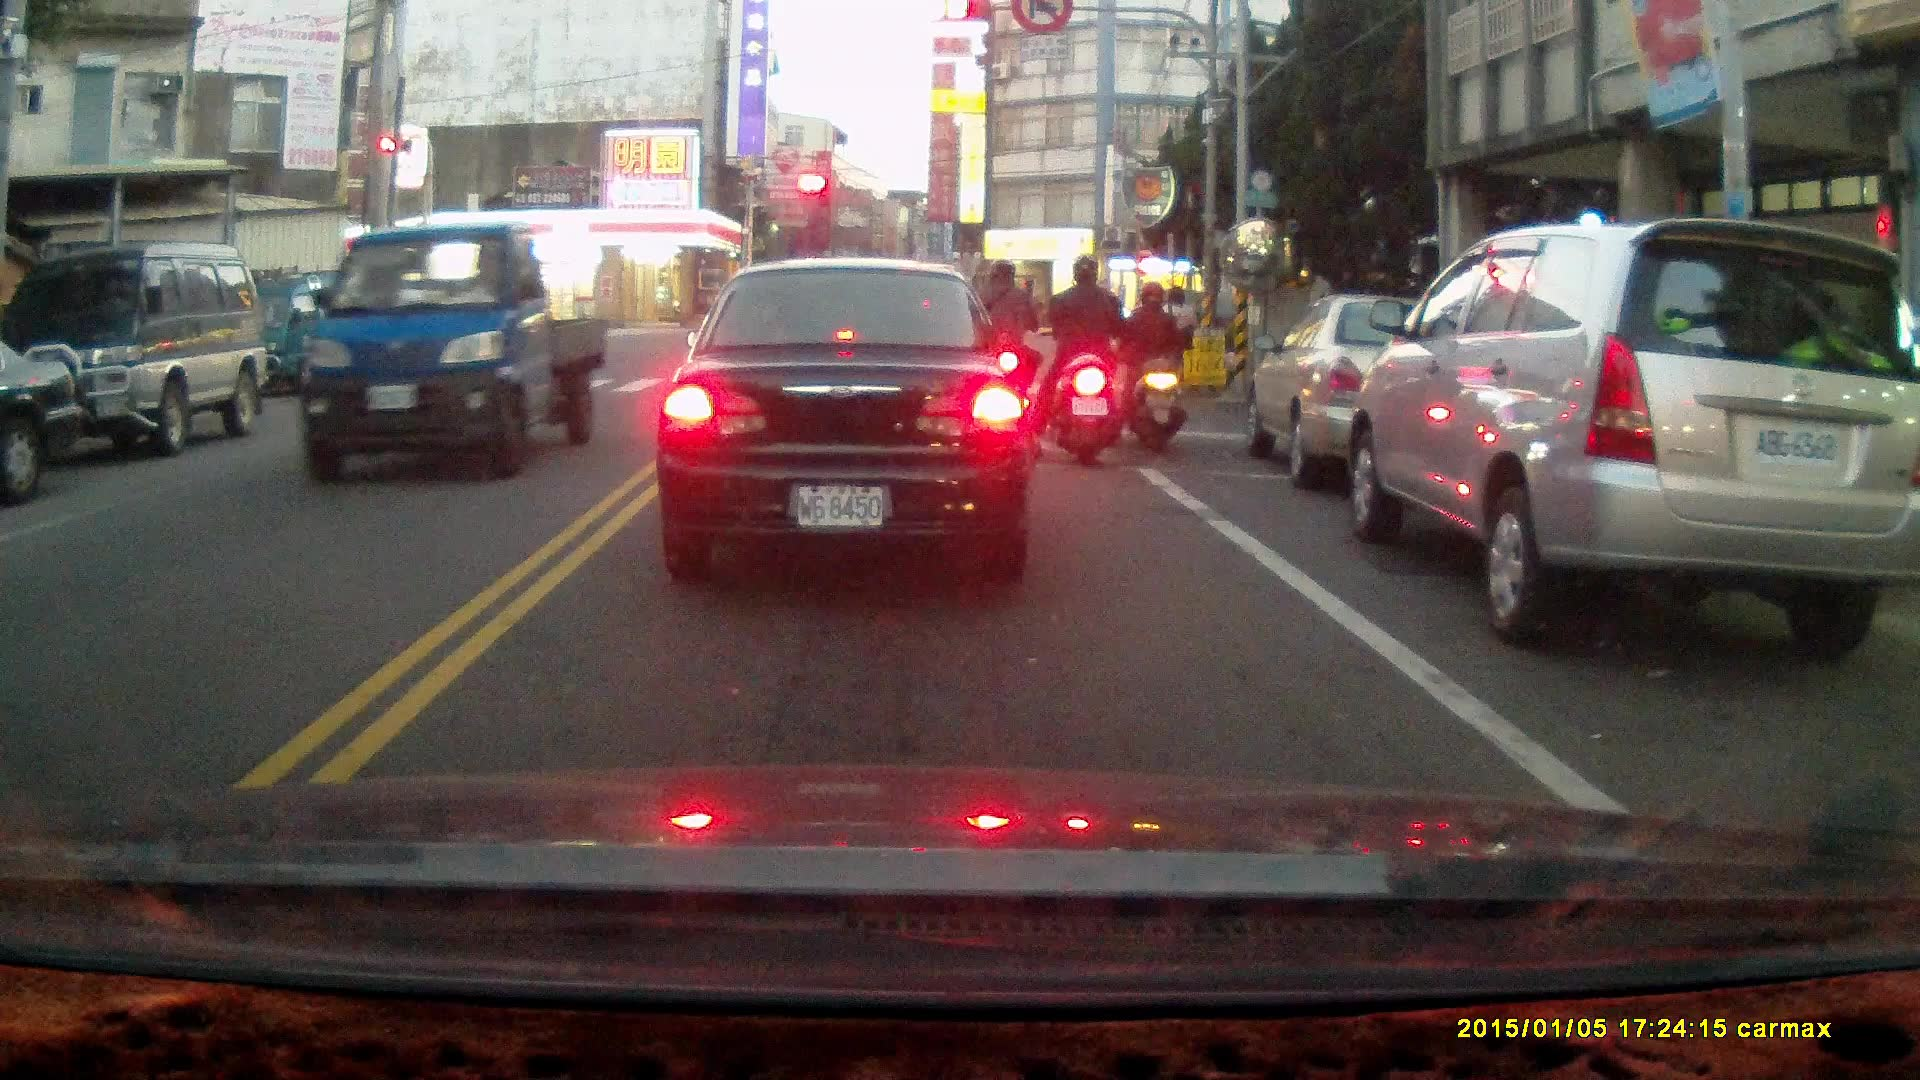pedestrian: (1156, 281, 1200, 402)
rider: (1034, 255, 1134, 464), (965, 258, 1042, 435), (1119, 279, 1186, 451)
vehicle: (1345, 221, 1920, 650), (655, 253, 1038, 581), (297, 221, 610, 481), (6, 236, 277, 457), (1249, 292, 1527, 494), (1, 323, 91, 501)
